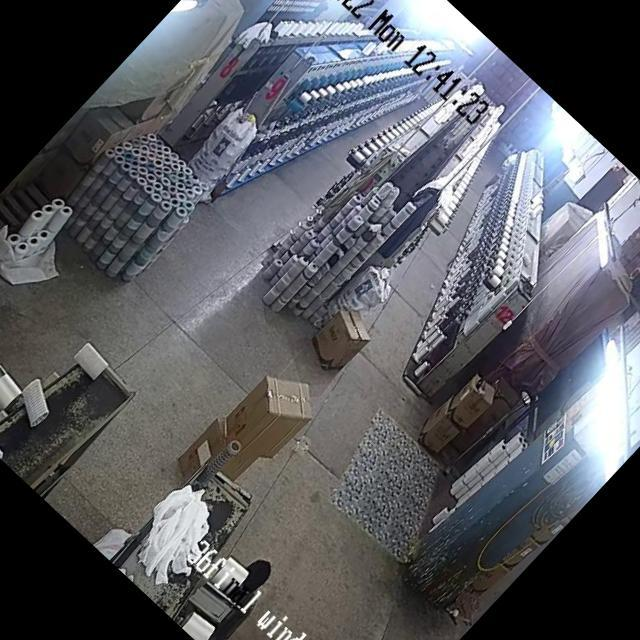person: (197, 553, 286, 640)
